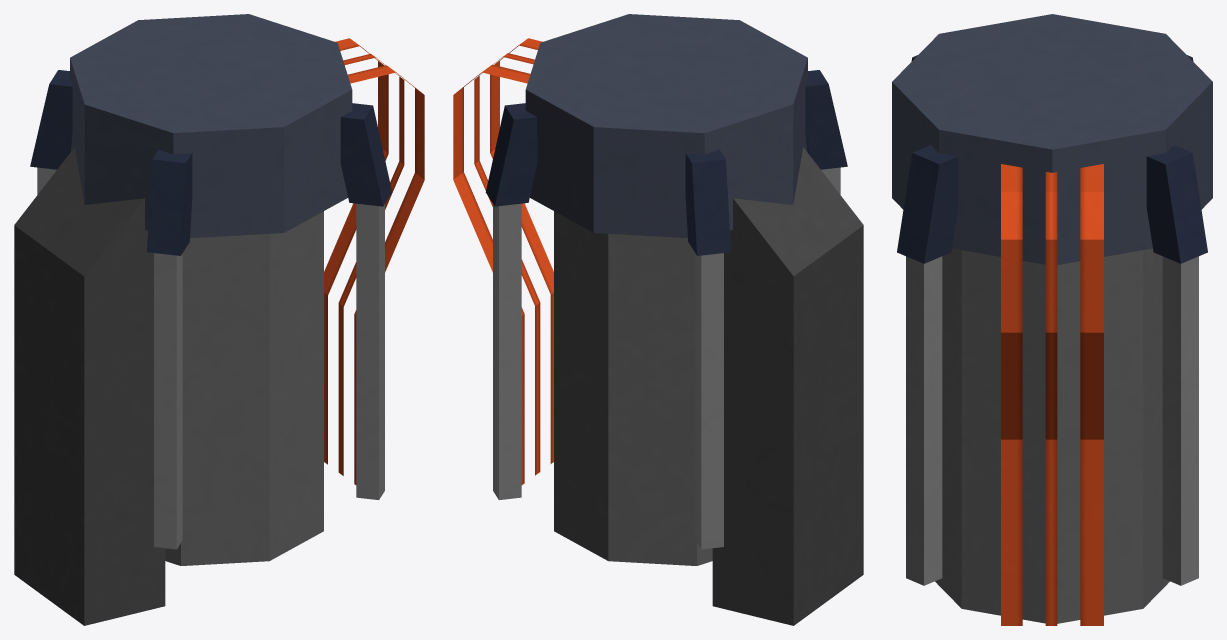
Rendered from selenium_piston.obj.
The picture shows the model from 3 angles, left to right: view 1: azimuth 30°, elevation 25°; view 2: azimuth 150°, elevation 25°; view 3: azimuth 270°, elevation 25°; orthographic projection. The views are drawn at different scales.
Visible parts, largest first — view 1: Cube_Cube.001; view 2: Cube_Cube.001; view 3: Cube_Cube.001.
Boxes of the visible parts, bbox=[...] form: Cube_Cube.001: bbox=[14, 14, 424, 625]; Cube_Cube.001: bbox=[453, 14, 863, 625]; Cube_Cube.001: bbox=[892, 14, 1212, 625].
Bounding box in the file's own units: 0.435 × 0.575 × 0.3125.
